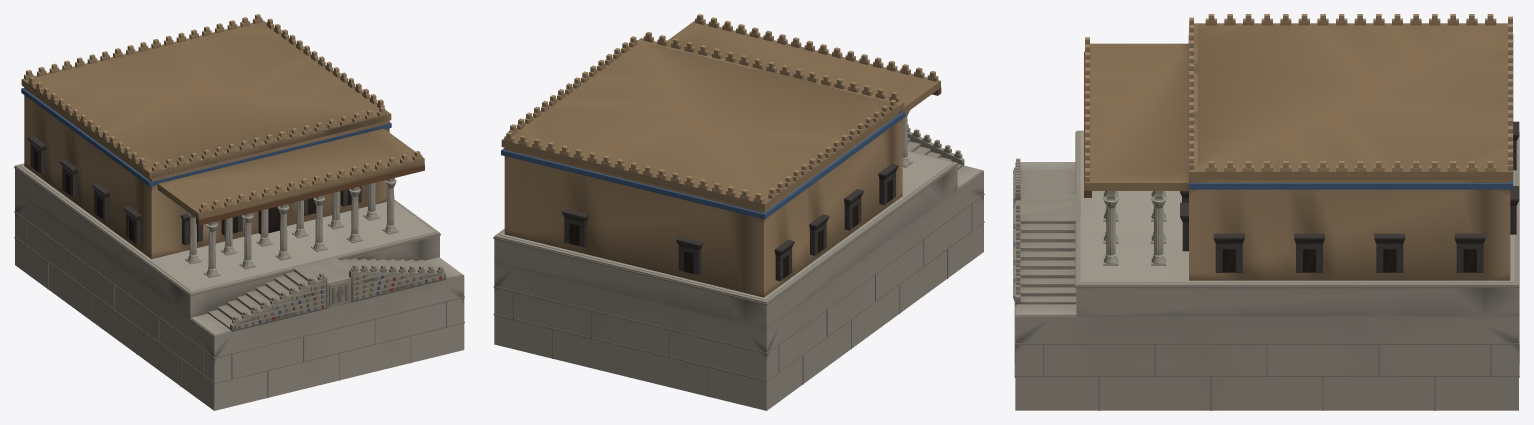
Rendered from hadish.glb.
3 renders of one model, left to right at view 1: azimuth 30°, elevation 25°; view 2: azimuth 150°, elevation 25°; view 3: azimuth 270°, elevation 25°, orthographic. The views are drawn at different scales.
Visible parts, largest first — view 1: p0_platform, p2_roof, p1_walls; view 2: p0_platform, p2_roof, p1_walls; view 3: p0_platform, p2_roof, p1_walls.
Boxes of the visible parts, left/top/right/bottom form: p0_platform: left=14, top=163, right=464, bottom=410; p2_roof: left=21, top=14, right=424, bottom=225; p1_walls: left=24, top=87, right=398, bottom=277; p0_platform: left=493, top=124, right=984, bottom=410; p2_roof: left=501, top=14, right=941, bottom=219; p1_walls: left=504, top=110, right=912, bottom=297; p0_platform: left=1013, top=130, right=1519, bottom=410; p2_roof: left=1084, top=14, right=1513, bottom=197; p1_walls: left=1103, top=121, right=1519, bottom=280.
Bounding box in the file's own units: 42.2 × 31.17 × 58.36.
